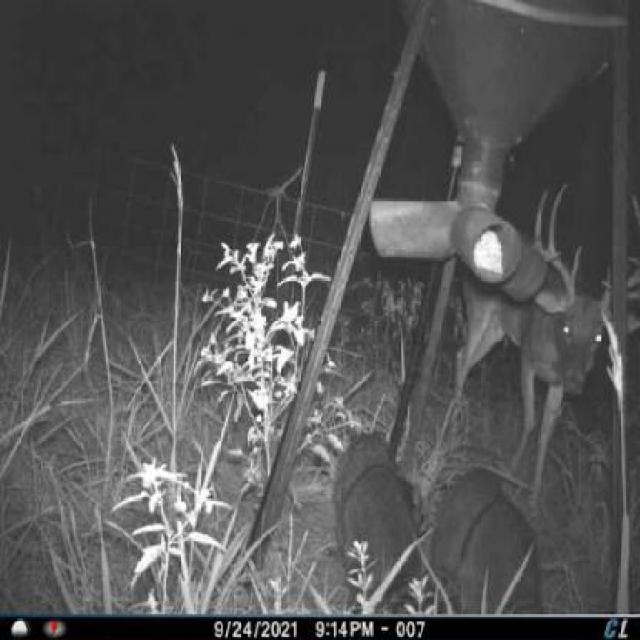Deer: (442, 176, 640, 510)
